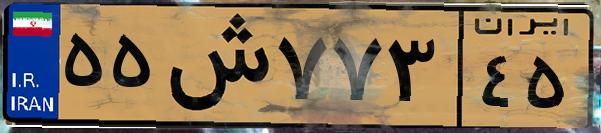3: (385, 28, 445, 110)
4: (475, 38, 525, 113)
5: (57, 26, 110, 100), (525, 38, 570, 115), (110, 28, 158, 98)
7: (270, 28, 330, 110), (330, 28, 385, 110)
ش: (158, 12, 270, 120)
